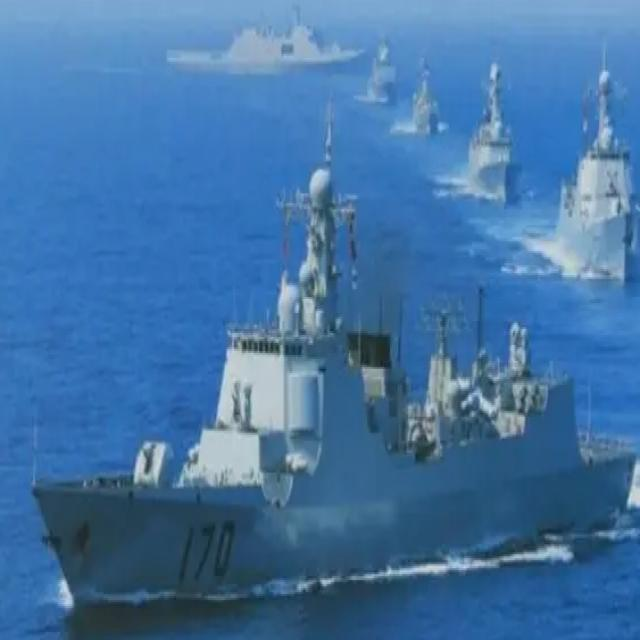navalvessels: (21, 162, 634, 596), (560, 36, 635, 283), (168, 2, 365, 74), (469, 60, 524, 201), (365, 28, 399, 106), (409, 53, 438, 138)
